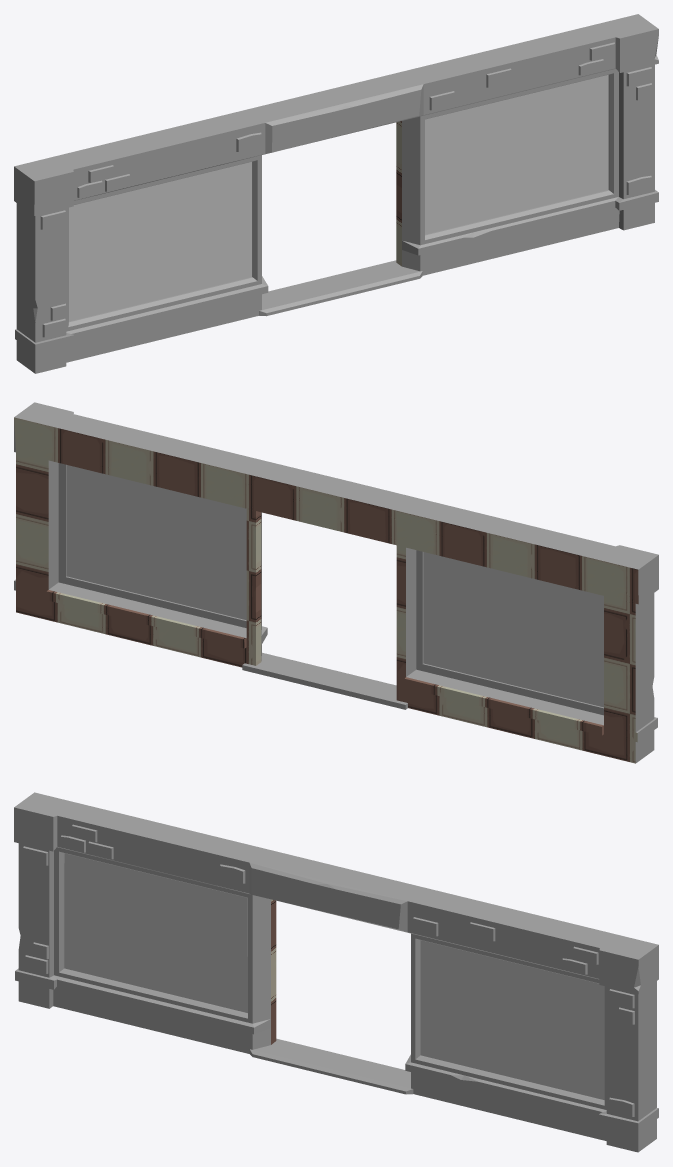
Rendered from SM_Bld_ShopFront_01.fbx.
The picture shows the model from 3 angles, top to bottom: view 1: azimuth 30°, elevation 25°; view 2: azimuth 150°, elevation 25°; view 3: azimuth 330°, elevation 25°; orthographic projection.
Parts seen in each view (by area): view 1: SM_Bld_ShopFront_01, SM_Bld_ShopFront_01_Glass; view 2: SM_Bld_ShopFront_01, SM_Bld_ShopFront_01_Glass; view 3: SM_Bld_ShopFront_01, SM_Bld_ShopFront_01_Glass.
Part boxes in pixels (x1=…): SM_Bld_ShopFront_01: x1=14, y1=14, x2=658, y2=373; SM_Bld_ShopFront_01_Glass: x1=68, y1=75, x2=608, y2=321; SM_Bld_ShopFront_01: x1=14, y1=402, x2=658, y2=763; SM_Bld_ShopFront_01_Glass: x1=66, y1=465, x2=603, y2=707; SM_Bld_ShopFront_01: x1=14, y1=792, x2=658, y2=1152; SM_Bld_ShopFront_01_Glass: x1=64, y1=853, x2=604, y2=1099.
Size of the model in its own units: 1008 by 300 by 64.49.
